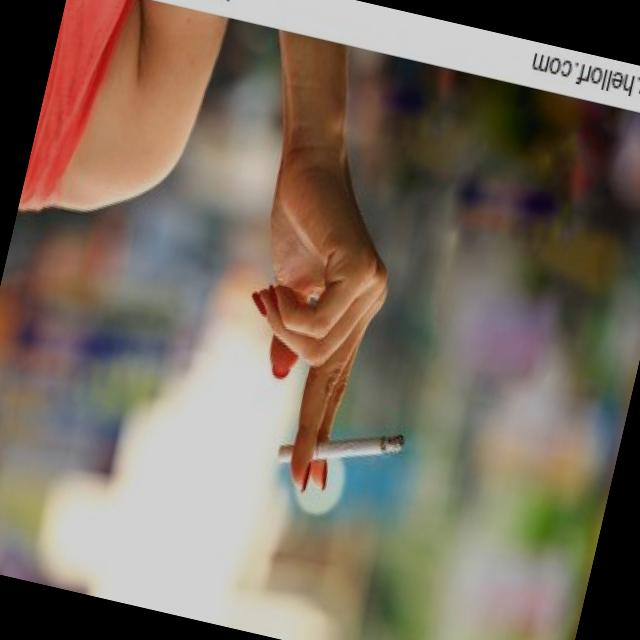smoke: (312, 418, 406, 480)
